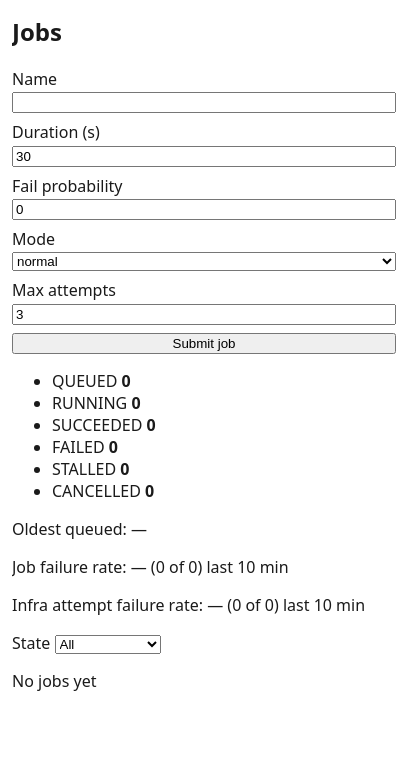
it: JobsPage submit wiring › refreshes jobs and stats at once after a successful submit
The width and height of the screenshot is (413, 763).
Type "fresh" into the field labelled "Name" at (204, 103), box x1=12 y1=92 x2=396 y2=113
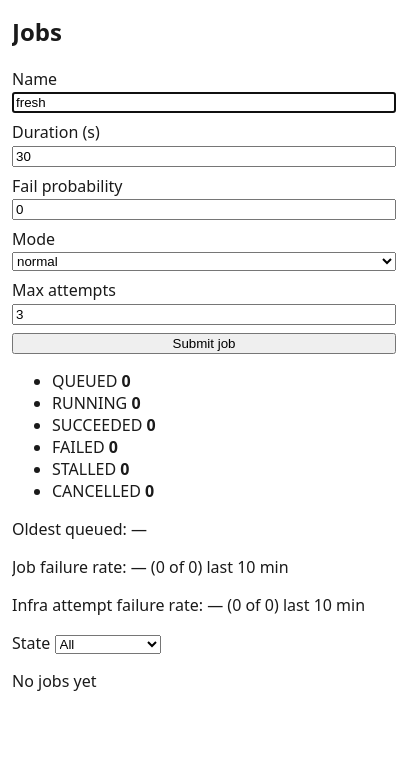
Click the button "Submit job" at (204, 343), box x1=12 y1=333 x2=396 y2=354
(page scrolled)
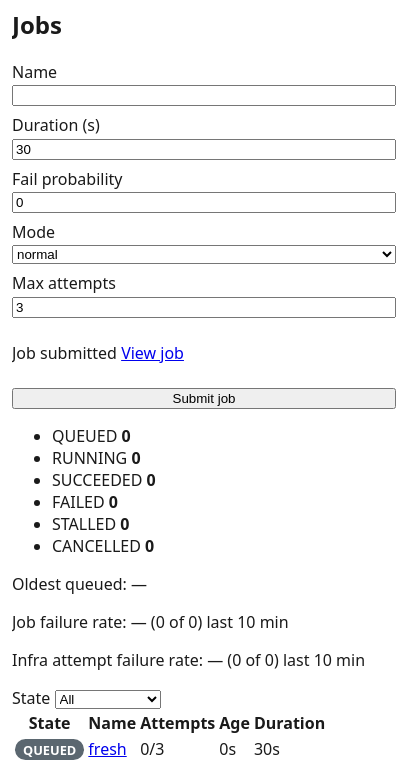
Expected: the link "fresh" is shown, x1=88 y1=738 x2=127 y2=760
